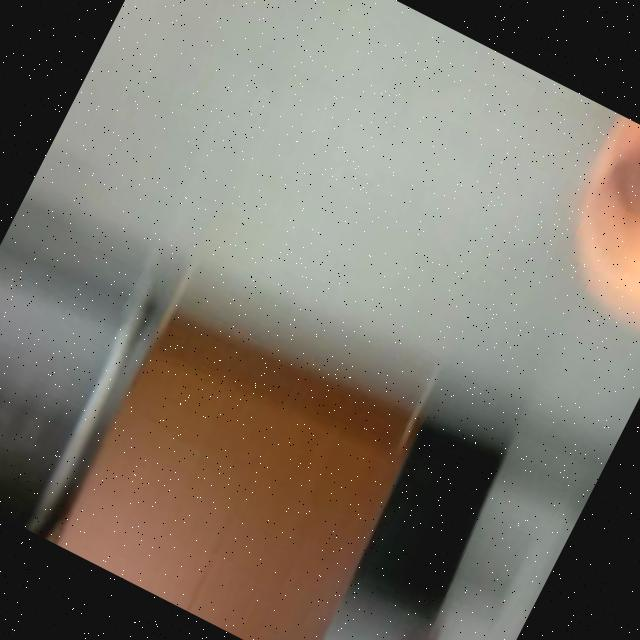ping-pong-ball: (533, 110, 640, 338)
